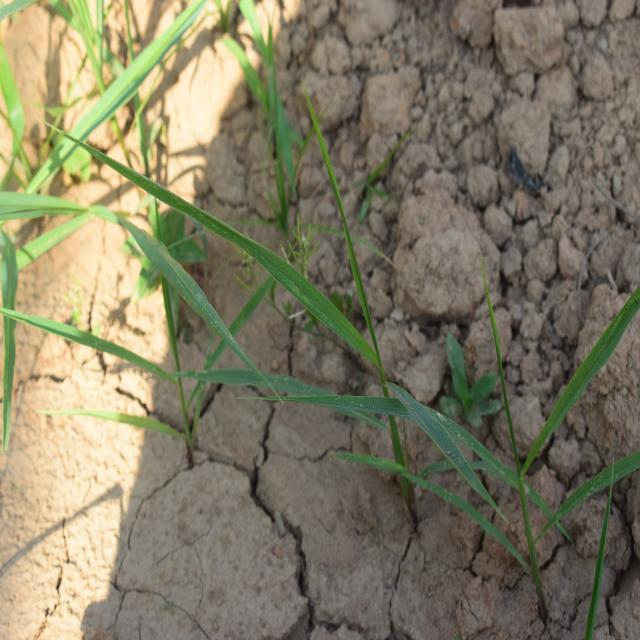green_foxtail: (222, 180, 458, 510), (434, 286, 624, 583)
